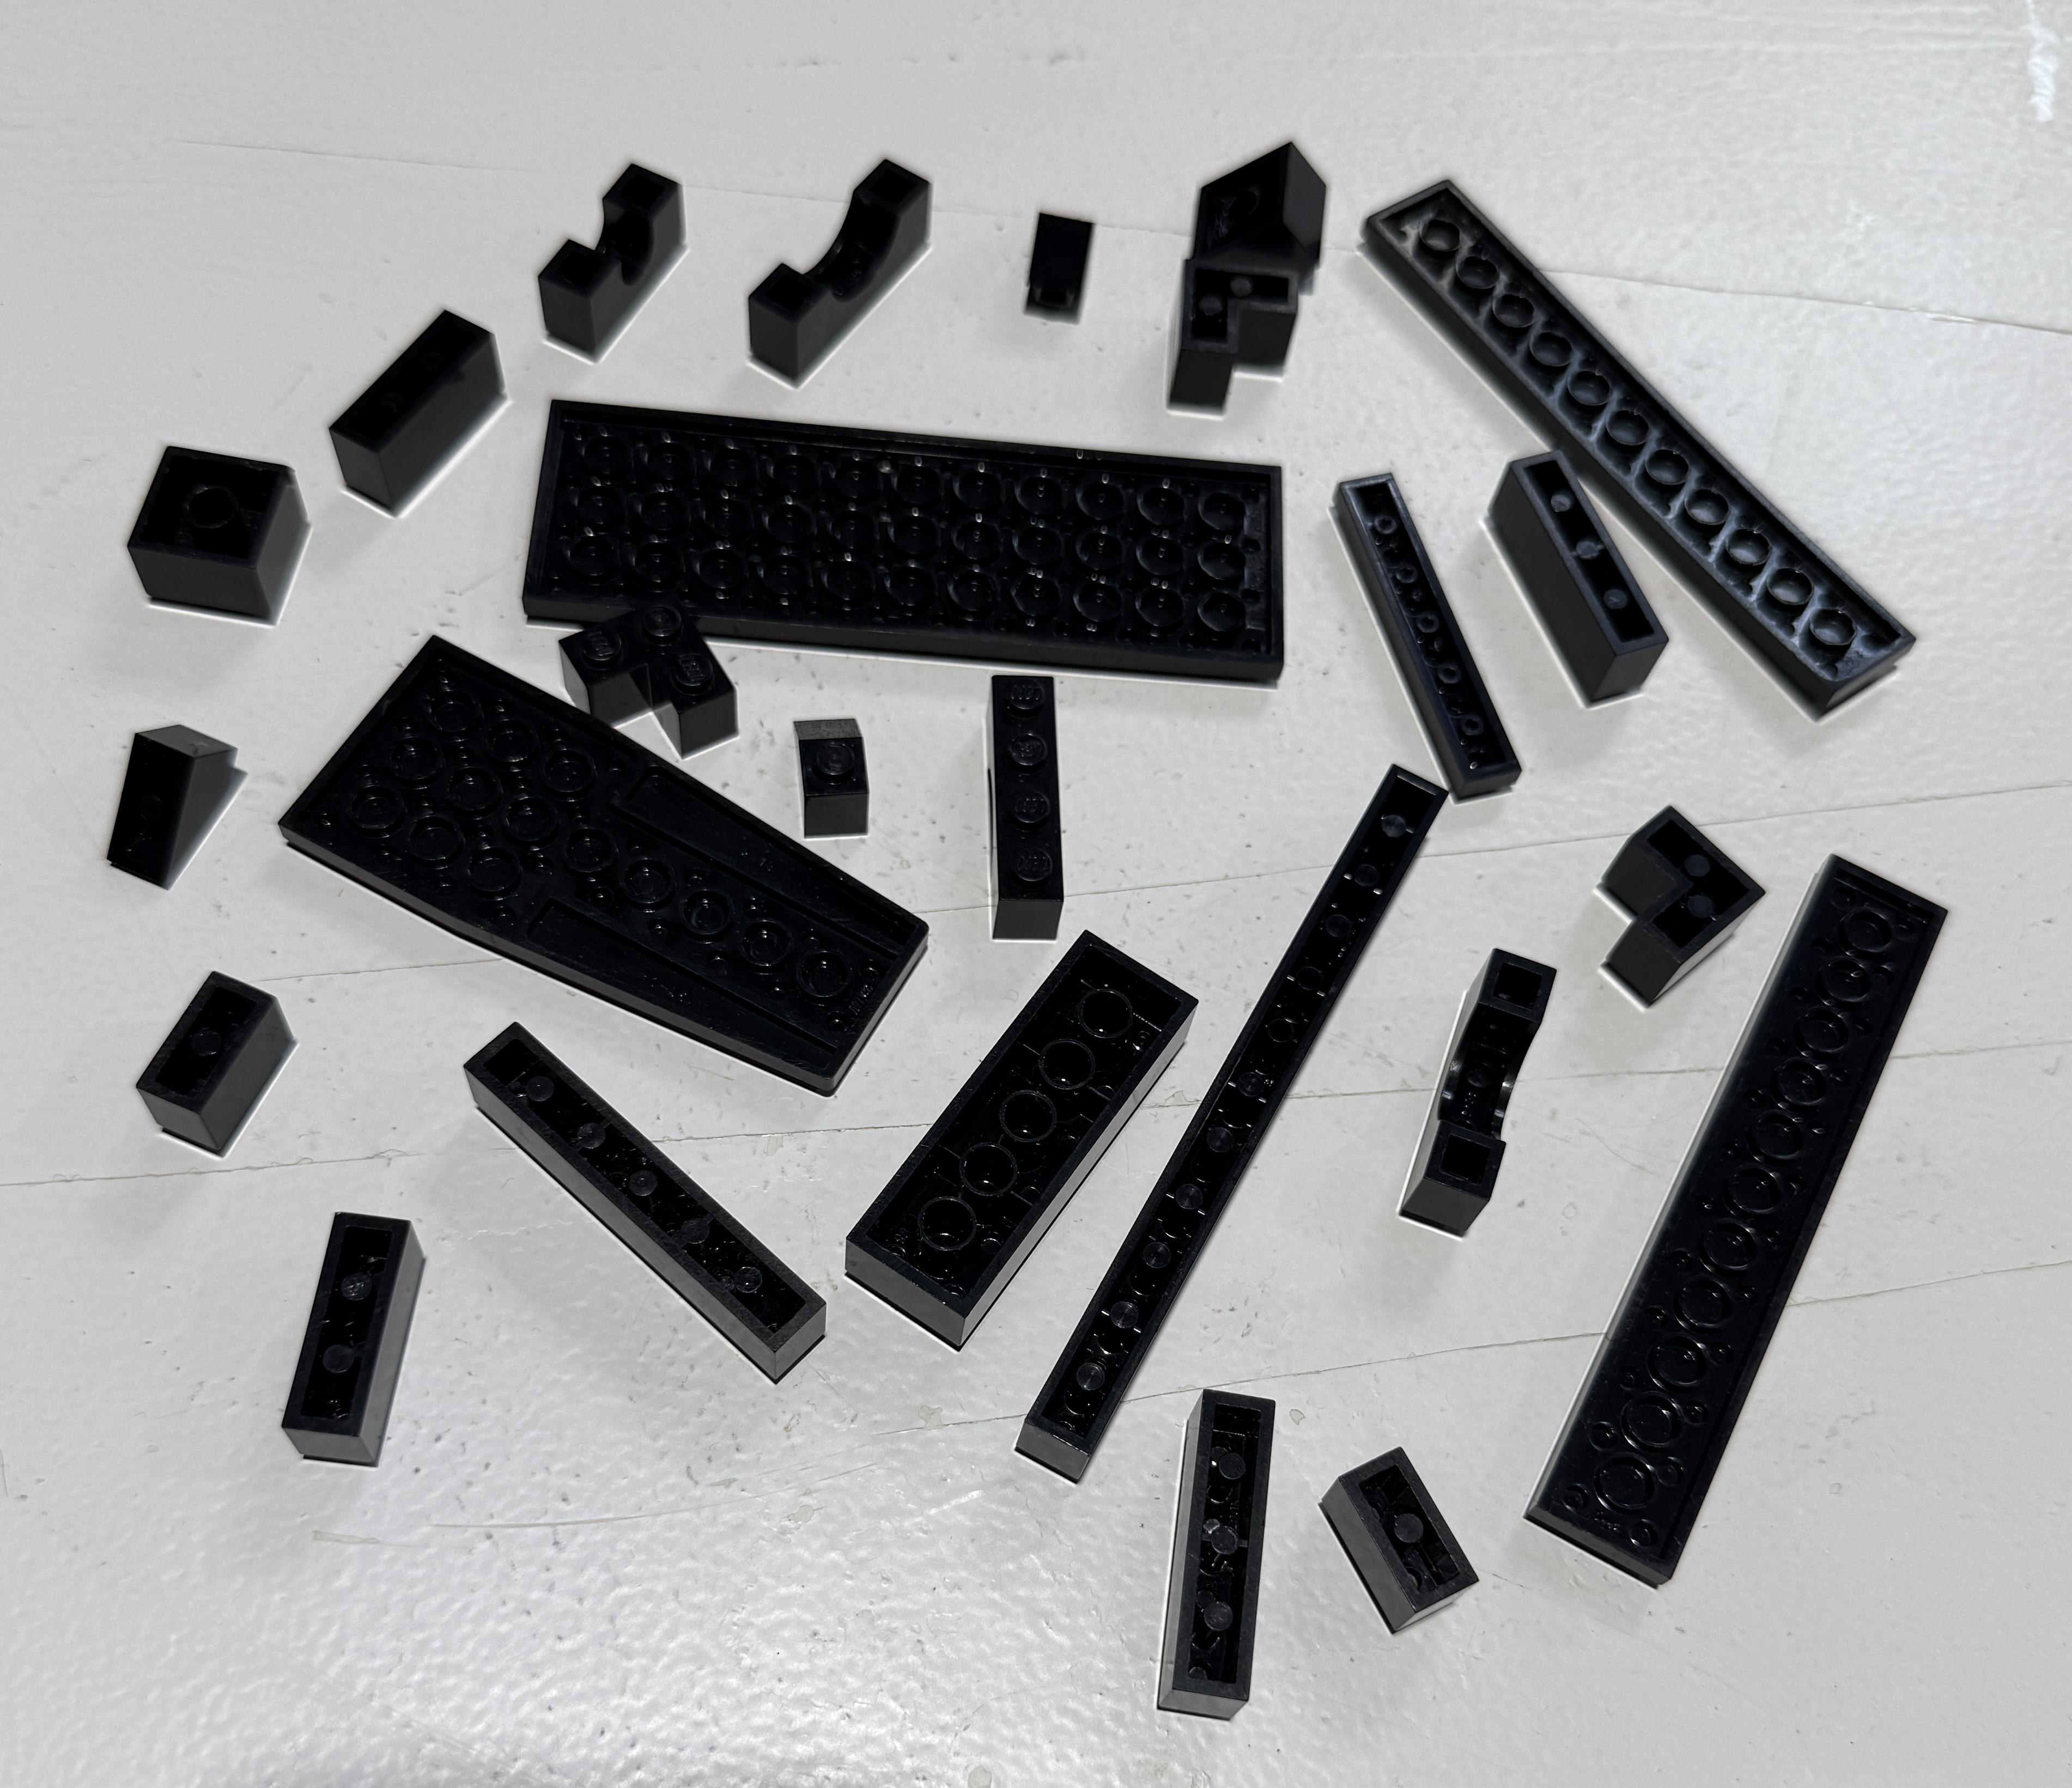brick_1x2: (111, 944, 314, 1193), (1306, 1415, 1496, 1663)
brick_1x4: (275, 1186, 488, 1529)
brick_2x2: (99, 409, 324, 634)
